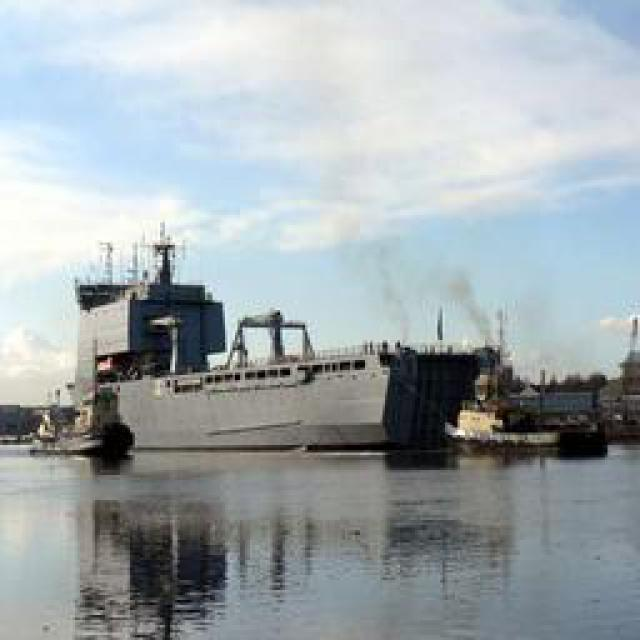Ship: (61, 295, 464, 460)
